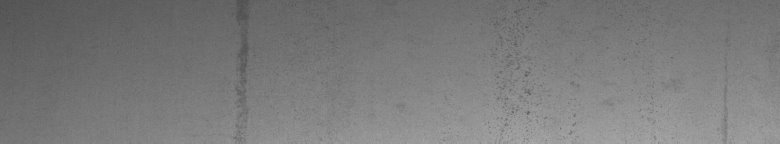ib: (484, 9, 613, 135)
